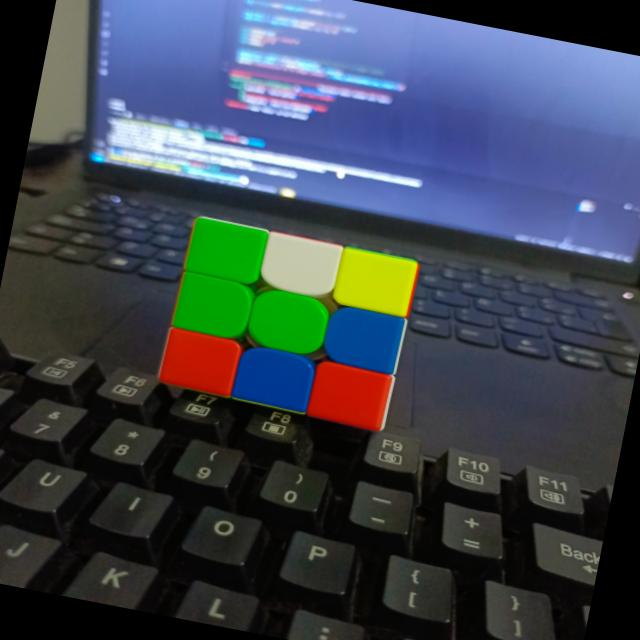rubik: (154, 212, 422, 433)
